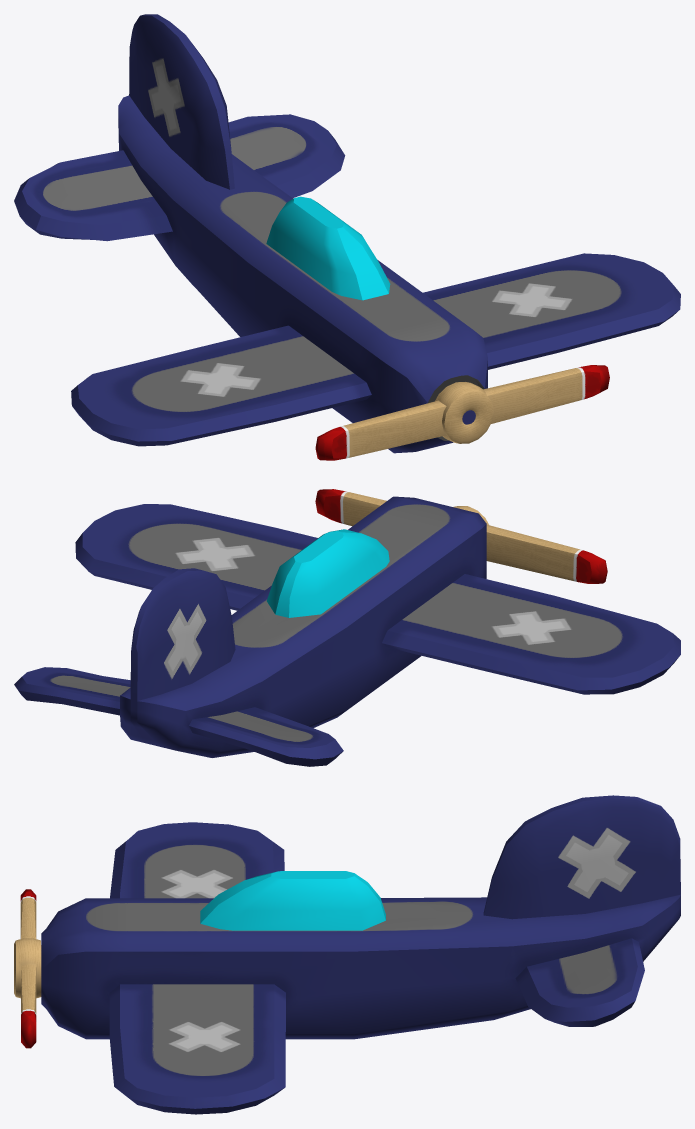
The model's file is EnemyPlaneV1.FBX.
3 renders of one model, top to bottom at view 1: azimuth 30°, elevation 25°; view 2: azimuth 150°, elevation 25°; view 3: azimuth 270°, elevation 25°, orthographic.
Visible parts, largest first — view 1: Body, Prop; view 2: Body, Prop; view 3: Body, Prop.
Part boxes in pixels (box(x1,y1,x2,y2)): Body: box(14, 14, 680, 453); Prop: box(315, 365, 609, 460); Body: box(14, 496, 680, 766); Prop: box(315, 489, 607, 583); Body: box(41, 795, 680, 1114); Prop: box(14, 889, 41, 1048).
Size of the model in its own units: 58.66 by 21.72 by 58.83.
2 materials, 2 textured.
